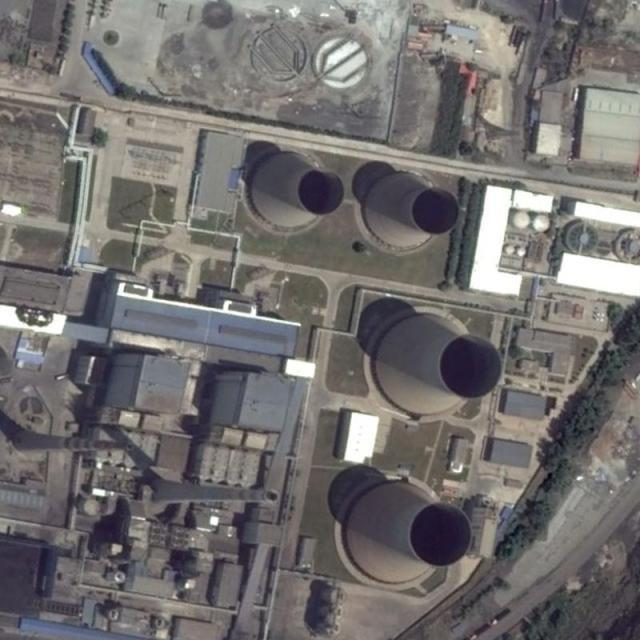vehicle: (469, 624, 492, 640), (494, 608, 513, 624)
